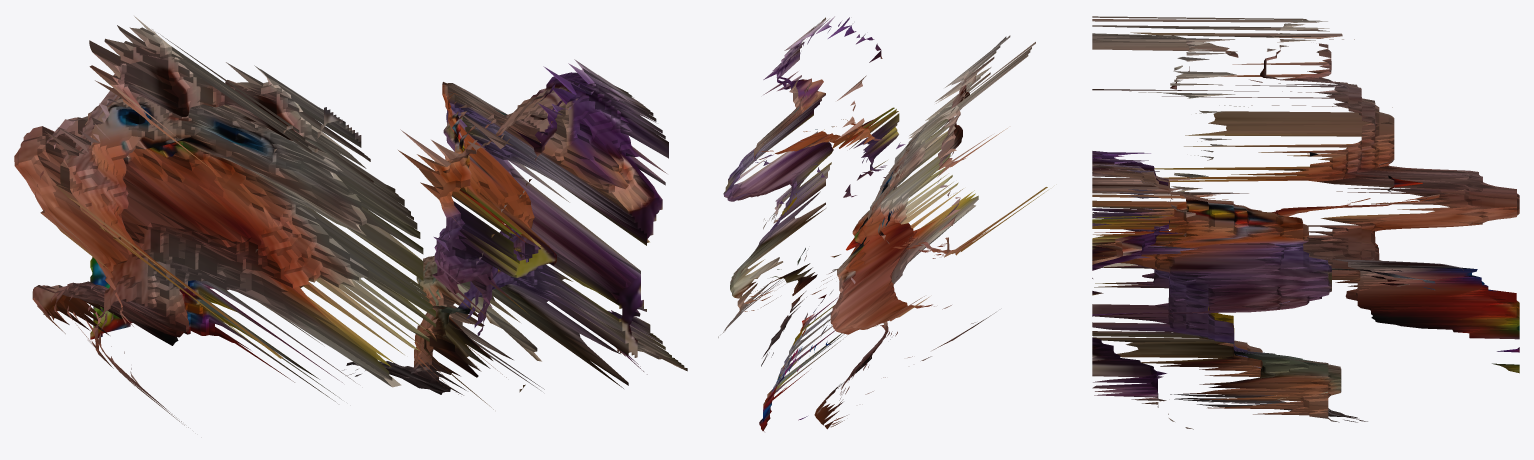
The model's file is frame_00360.glb.
The picture shows the model from 3 angles, left to right: view 1: azimuth 30°, elevation 25°; view 2: azimuth 150°, elevation 25°; view 3: azimuth 270°, elevation 25°; orthographic projection. The views are drawn at different scales.
Parts seen in each view (by area): view 1: geometry_0; view 2: geometry_0; view 3: geometry_0.
Boxes of the visible parts, x1=… form: geometry_0: x1=14, y1=16, x2=687, y2=427; geometry_0: x1=718, y1=16, x2=1047, y2=431; geometry_0: x1=1092, y1=16, x2=1519, y2=429.
Size of the model in its own units: 0.1407 by 0.1395 by 0.16.
1 material, 1 textured.
